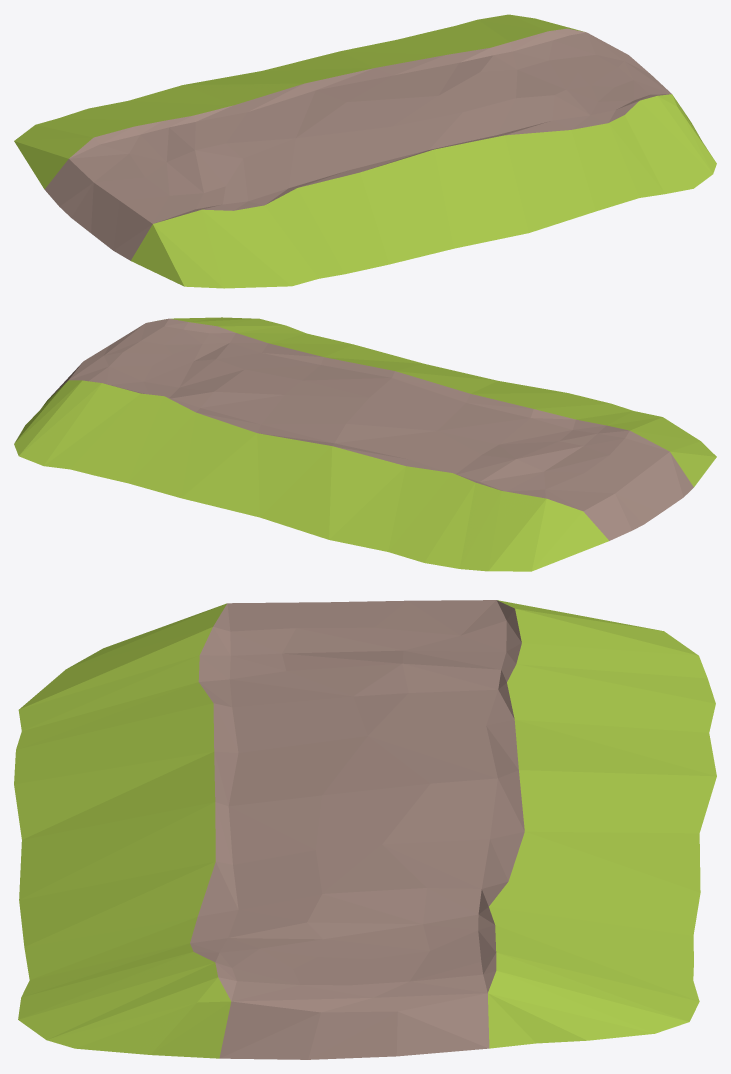
File: Road_003.glb
The picture shows the model from 3 angles, top to bottom: view 1: azimuth 30°, elevation 25°; view 2: azimuth 150°, elevation 25°; view 3: azimuth 270°, elevation 25°; orthographic projection. The views are drawn at different scales.
Parts seen in each view (by area): view 1: Road_003; view 2: Road_003; view 3: Road_003.
Part boxes in pixels (x1,y1,x2,y2): Road_003: (14,14,716,288); Road_003: (14,317,716,571); Road_003: (14,600,716,1059).
Bounding box in the file's own units: 43.54 × 3.64 × 29.32.
1 material, 1 textured.
